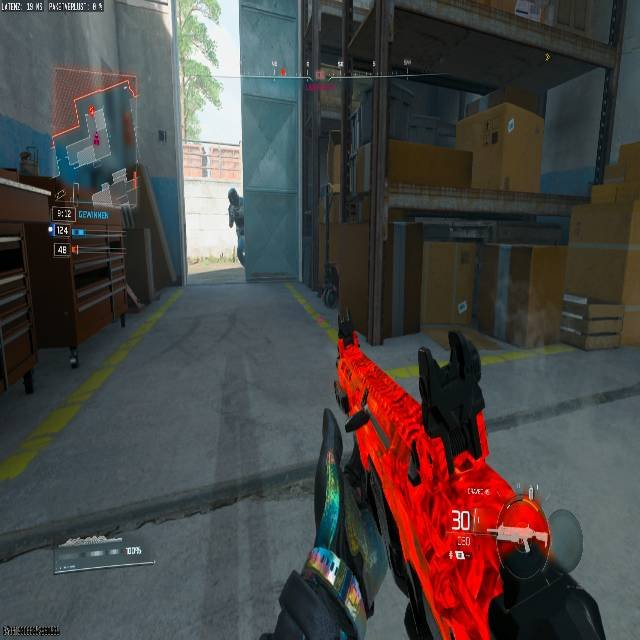player: (225, 185, 243, 263)
